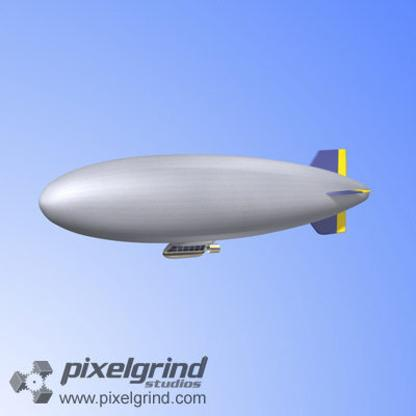Airship: (37, 146, 373, 261)
